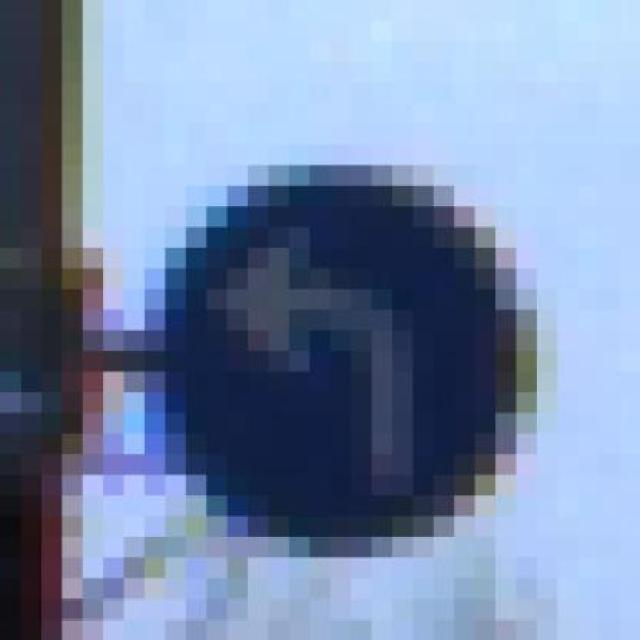Turn left ahead: (124, 124, 558, 578)
